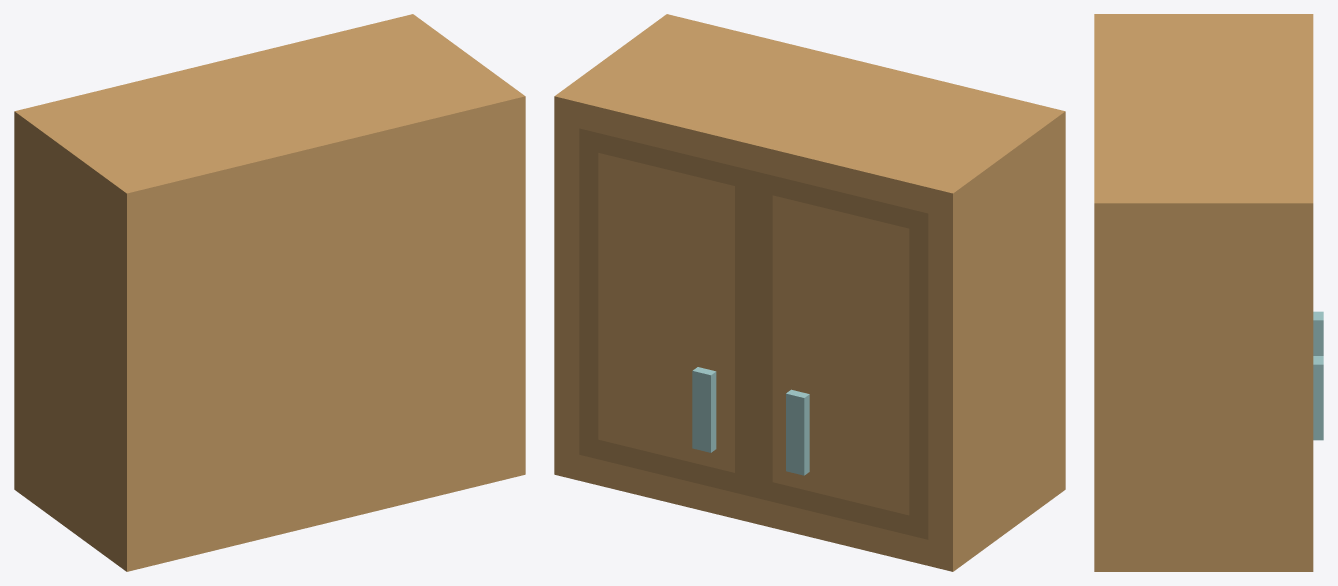
The model's file is kitchenCabinetUpperDouble.glb.
3 renders of one model, left to right at view 1: azimuth 30°, elevation 25°; view 2: azimuth 150°, elevation 25°; view 3: azimuth 270°, elevation 25°, orthographic. The views are drawn at different scales.
Size of the model in its own units: 4.3 by 3.9 by 2.2.
